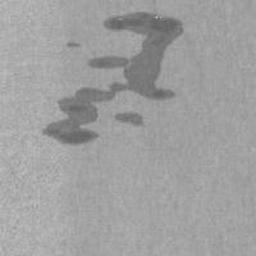Water spot: (41, 10, 187, 147), (113, 110, 146, 129), (65, 40, 83, 50)
